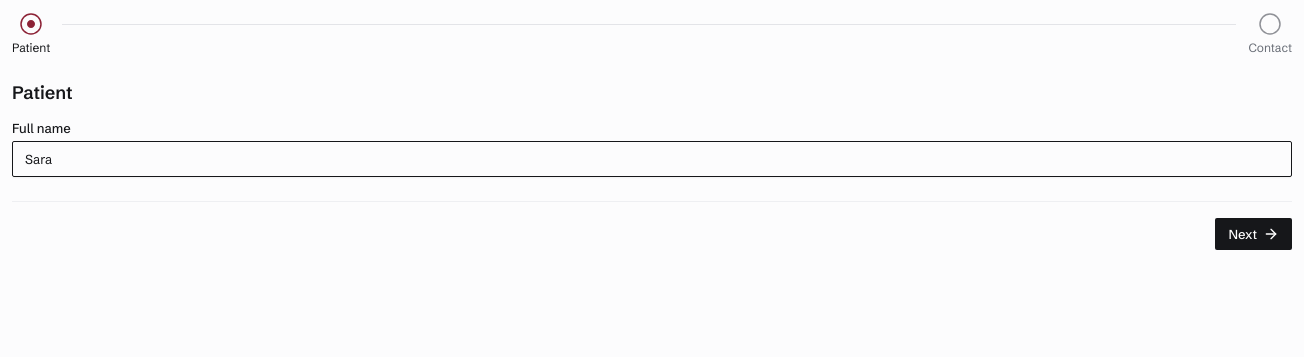
Test: FormWizard submit errors › shows a form-level alert when the errored field belongs to a hidden step
Click the button named "Next".
click(1254, 234)  # box [1215,218,1292,250]
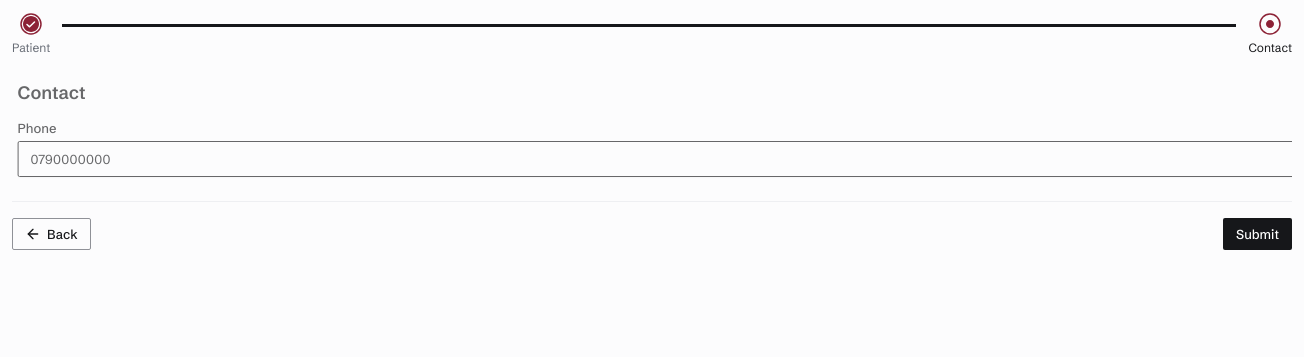
Click the 2nd button named "Submit".
click(1258, 234)  # box [1223,218,1292,250]
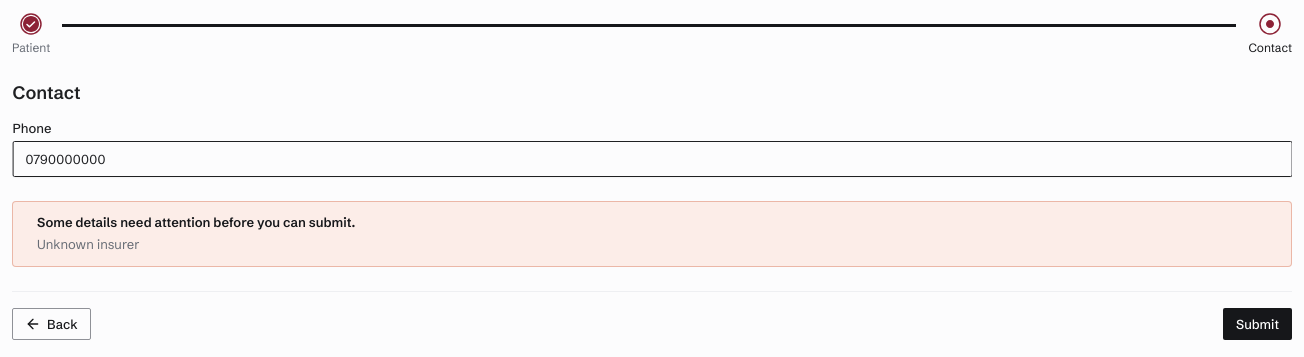
Now the heading "Contact" is shown, box [12,80,80,106]
Now the message shows "Some details need attention before you can submit.", box [37,214,355,230]
Now the message shows "Unknown insurer", box [37,236,139,252]
